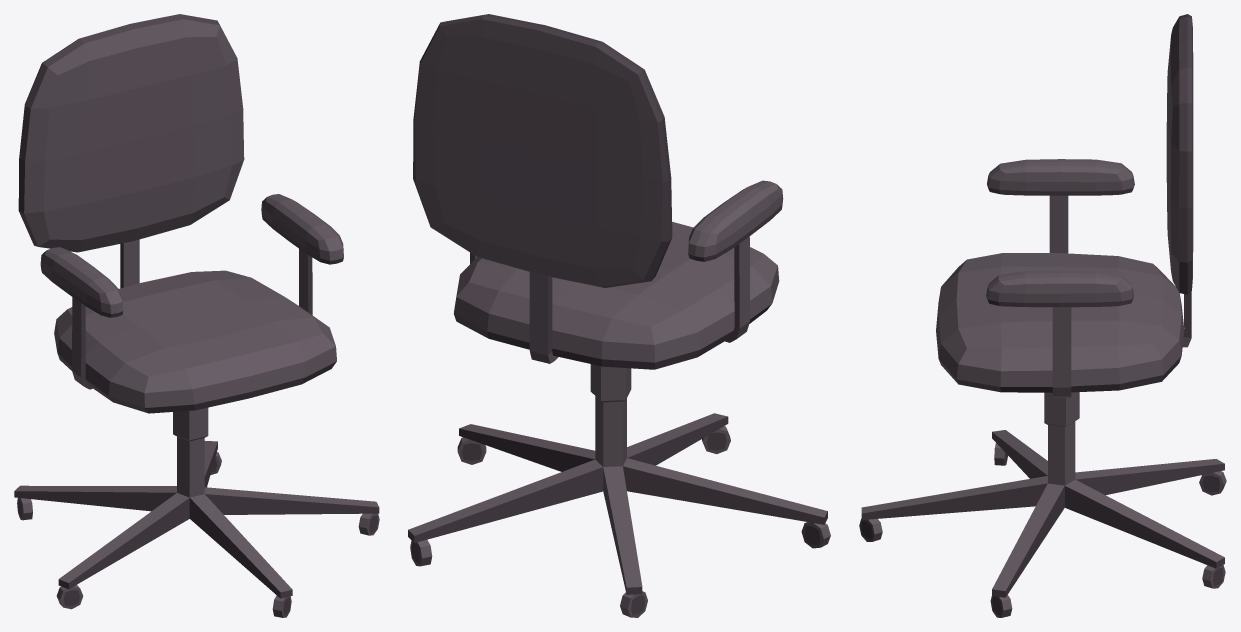
File: Computer Chair.fbx
The picture shows the model from 3 angles, left to right: view 1: azimuth 30°, elevation 25°; view 2: azimuth 150°, elevation 25°; view 3: azimuth 270°, elevation 25°; orthographic projection. The views are drawn at different scales.
Parts seen in each view (by area): view 1: Computer Chair; view 2: Computer Chair; view 3: Computer Chair.
Part boxes in pixels (bbox=[...]): Computer Chair: bbox=[14, 14, 379, 617]; Computer Chair: bbox=[408, 14, 830, 617]; Computer Chair: bbox=[859, 14, 1226, 617].
Bounding box in the file's own units: 179 × 256 × 170.
